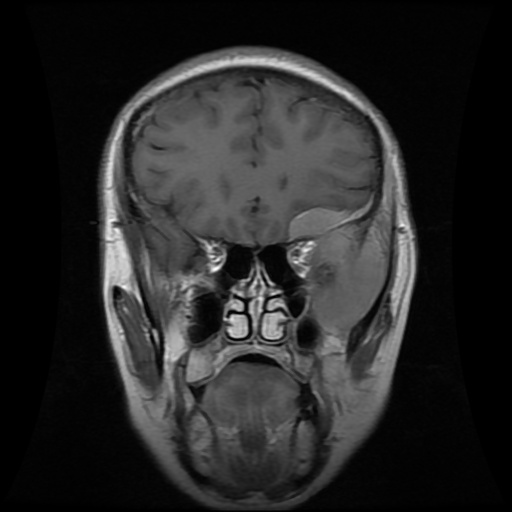meningioma: (288, 206, 349, 240)
